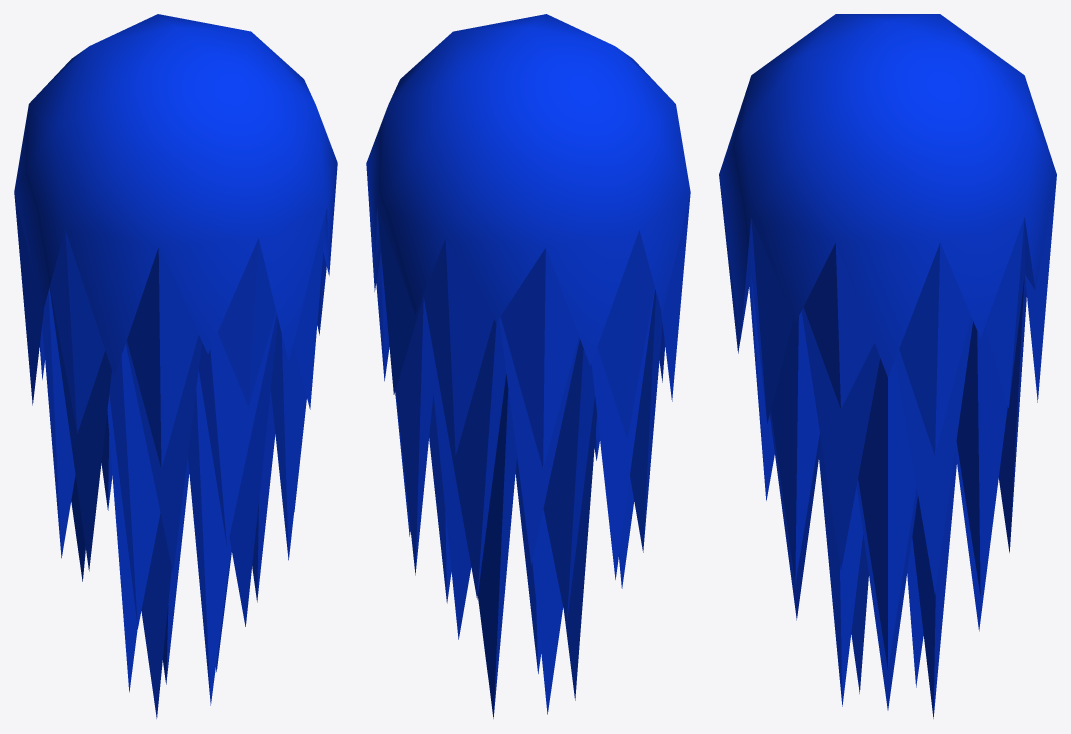
The model's file is proyectil pistola.FBX.
The picture shows the model from 3 angles, left to right: view 1: azimuth 30°, elevation 25°; view 2: azimuth 150°, elevation 25°; view 3: azimuth 270°, elevation 25°; orthographic projection. The views are drawn at different scales.
Visible parts, largest first — view 1: GeoSphere001; view 2: GeoSphere001; view 3: GeoSphere001.
Boxes of the visible parts, left/top/right/bottom form: GeoSphere001: left=14, top=14, right=337, bottom=718; GeoSphere001: left=366, top=14, right=690, bottom=718; GeoSphere001: left=719, top=14, right=1056, bottom=718.
Bounding box in the file's own units: 76.08 × 181 × 80.
